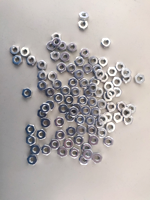nut: (27, 155, 38, 166), (55, 117, 66, 128), (79, 155, 90, 166), (92, 153, 103, 164), (101, 38, 112, 49), (78, 20, 89, 31), (22, 88, 33, 99), (135, 74, 146, 85), (40, 103, 51, 114), (97, 99, 108, 110), (81, 106, 92, 117), (75, 115, 86, 126), (87, 125, 98, 136), (97, 128, 108, 139), (106, 122, 117, 133), (106, 102, 117, 113), (67, 126, 77, 138), (69, 106, 79, 118), (97, 115, 109, 125), (30, 145, 41, 155), (42, 145, 52, 156), (50, 140, 61, 150), (58, 147, 68, 158), (56, 130, 66, 141), (41, 118, 51, 129), (64, 139, 74, 150), (70, 148, 80, 159), (83, 150, 94, 160), (82, 144, 93, 154), (75, 135, 85, 146), (20, 48, 31, 58), (26, 56, 37, 66), (37, 60, 47, 71), (57, 63, 67, 74), (37, 71, 48, 81), (45, 87, 55, 98), (53, 79, 63, 90), (68, 42, 78, 53), (80, 48, 91, 58), (68, 78, 79, 88), (54, 93, 64, 104), (71, 87, 81, 98), (95, 69, 105, 80), (88, 83, 99, 93), (107, 67, 118, 77), (104, 82, 115, 92), (65, 95, 75, 106), (87, 97, 98, 107), (85, 116, 96, 126), (95, 119, 105, 130), (89, 135, 99, 146), (104, 136, 114, 147), (81, 106, 92, 116), (104, 112, 114, 123), (122, 107, 132, 118), (26, 125, 36, 135), (37, 130, 47, 140), (10, 45, 20, 55), (38, 81, 48, 91), (48, 72, 58, 82), (47, 41, 57, 51), (60, 52, 70, 62), (75, 57, 85, 67), (89, 56, 99, 66), (75, 70, 85, 80), (67, 64, 77, 74), (61, 86, 71, 96), (113, 77, 123, 87), (116, 62, 126, 72), (122, 68, 132, 78), (107, 89, 117, 99), (59, 104, 69, 114), (79, 96, 89, 106), (66, 112, 76, 122), (77, 126, 87, 136), (117, 102, 127, 112), (114, 113, 124, 123), (124, 115, 134, 125), (91, 107, 101, 117), (80, 78, 89, 89), (27, 136, 36, 146), (79, 12, 89, 21), (13, 55, 22, 65), (52, 38, 62, 47), (51, 51, 60, 61), (84, 64, 93, 74), (99, 57, 108, 67), (90, 77, 100, 86), (95, 88, 104, 98), (100, 73, 109, 83), (113, 88, 123, 97), (123, 74, 132, 84), (104, 92, 113, 102), (84, 88, 93, 98), (38, 109, 47, 119), (47, 101, 56, 111), (128, 104, 137, 114), (52, 33, 61, 42), (73, 104, 82, 113), (93, 65, 103, 73), (59, 42, 67, 51)
